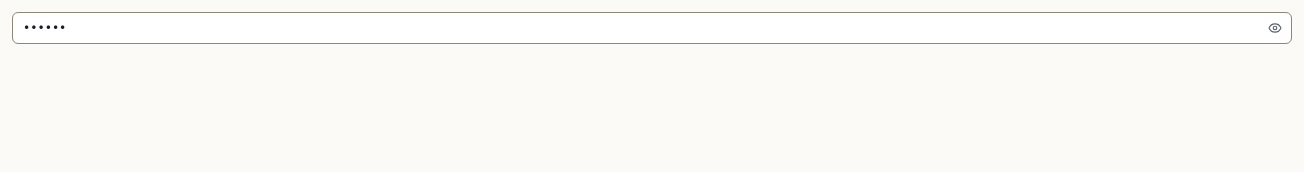
Test: UiPrimitives accessibility & trishul-ui alignment › toggles SecretInput visibility cleanly with aria-pressed semantics
What coordinates should you click on to do the following:
click the button named "Show SNMP community"
I would click on:
 (1275, 28)
Its box is left=1264, top=17, right=1286, bottom=39.
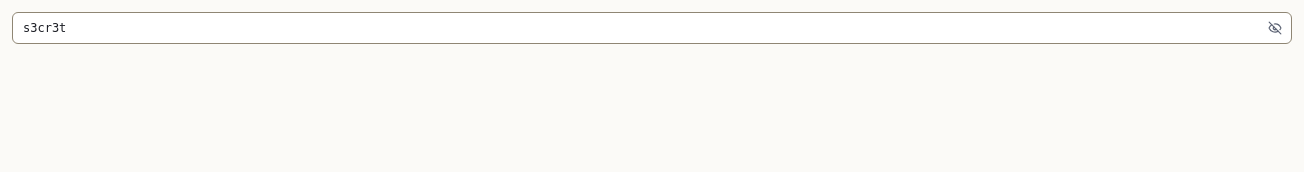
Expected: the button named "Hide SNMP community" is pressed, left=1264, top=17, right=1286, bottom=39
